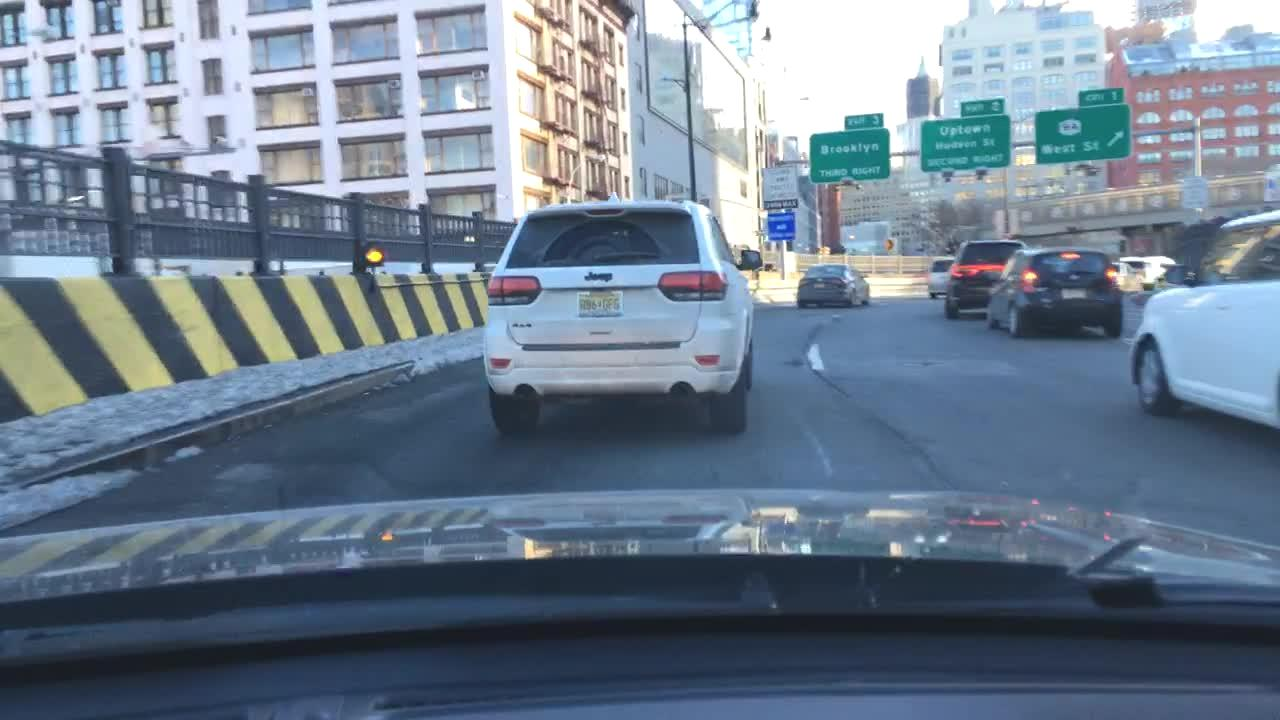jeep: (578, 269, 617, 286)
